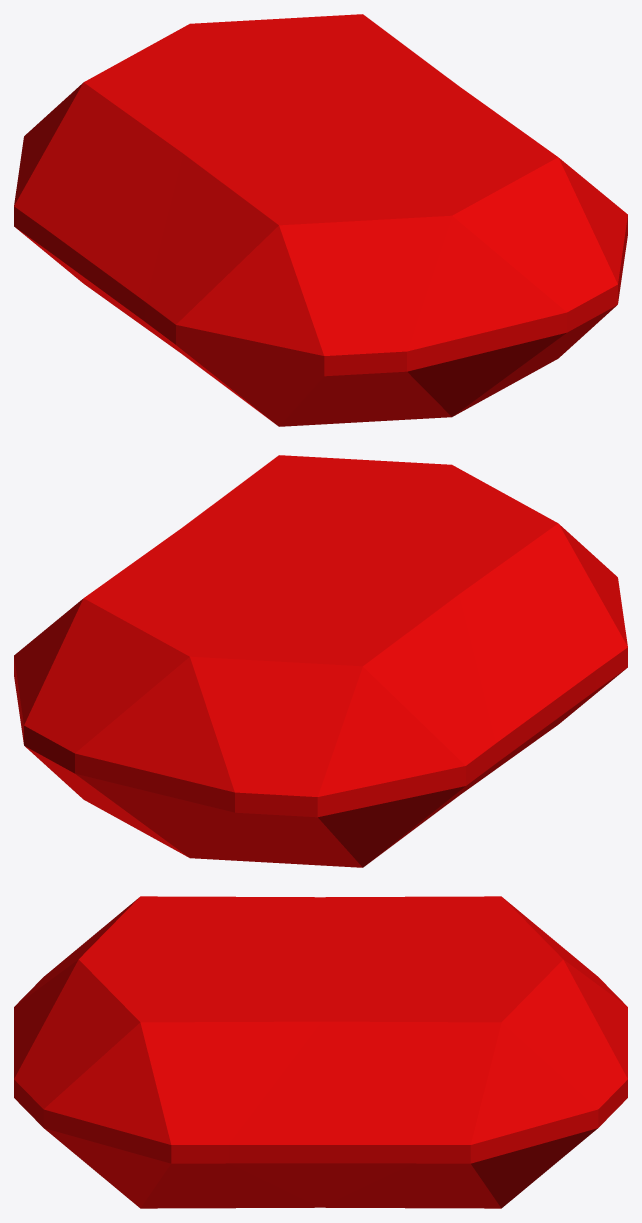
3 renders of one model, top to bottom at view 1: azimuth 30°, elevation 25°; view 2: azimuth 150°, elevation 25°; view 3: azimuth 270°, elevation 25°, orthographic. The views are drawn at different scales.
Parts seen in each view (by area): view 1: ruby; view 2: ruby; view 3: ruby.
Part boxes in pixels (<box>): ruby: <box>14,14,627,426</box>; ruby: <box>14,455,627,867</box>; ruby: <box>14,896,627,1208</box>.
Bounding box in the file's own units: 195 × 82.91 × 248.
